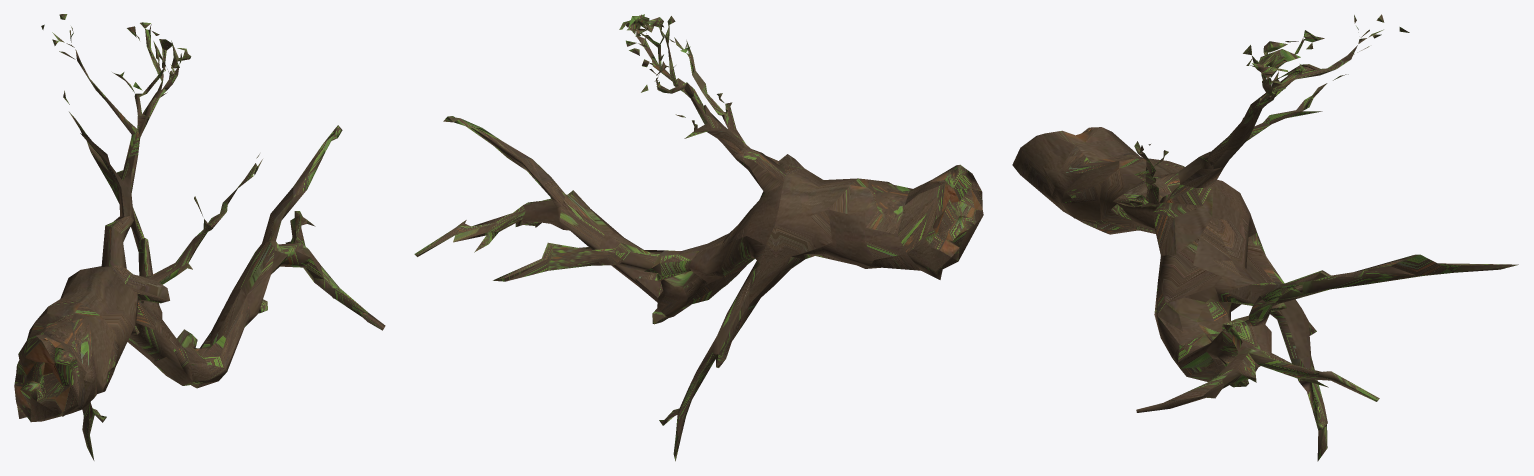
File: meshy-bough-lite.glb
The picture shows the model from 3 angles, left to right: view 1: azimuth 30°, elevation 25°; view 2: azimuth 150°, elevation 25°; view 3: azimuth 270°, elevation 25°; orthographic projection. The views are drawn at different scales.
Bounding box in the file's own units: 1 × 0.9864 × 1.
Materials: 1 (1 with a texture image).
